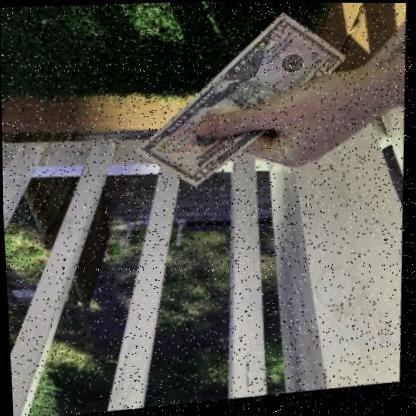dollar_front: (135, 15, 348, 189)
